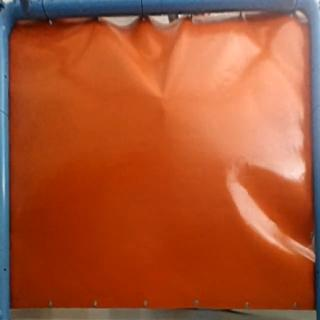Hit-hRxx: (154, 91, 168, 106)
